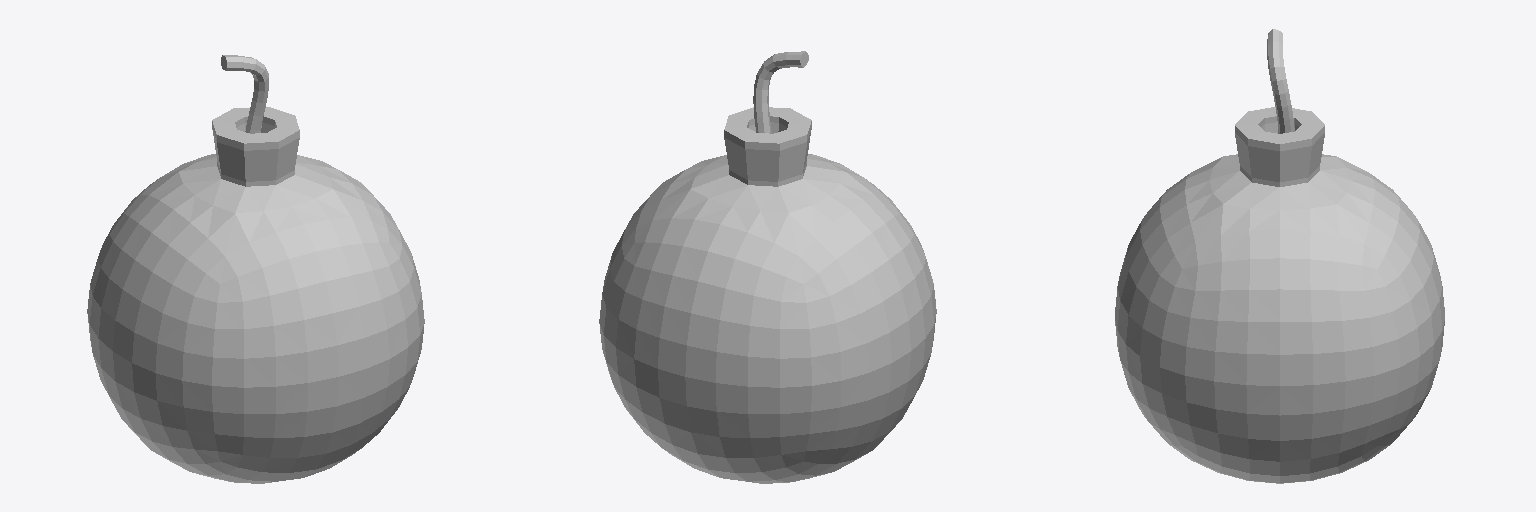
The model's file is bomba.obj.
3 views of the same model, side by side, from view 1: azimuth 30°, elevation 25°; view 2: azimuth 150°, elevation 25°; view 3: azimuth 270°, elevation 25° (orthographic).
Parts seen in each view (by area): view 1: bomba_uv1; view 2: bomba_uv1; view 3: bomba_uv1.
Part boxes in pixels (x1,y1,x2,y2): bomba_uv1: (87,55,424,483); bomba_uv1: (599,51,936,483); bomba_uv1: (1115,29,1444,483).
Bounding box in the file's own units: 16.38 × 22.99 × 16.38.